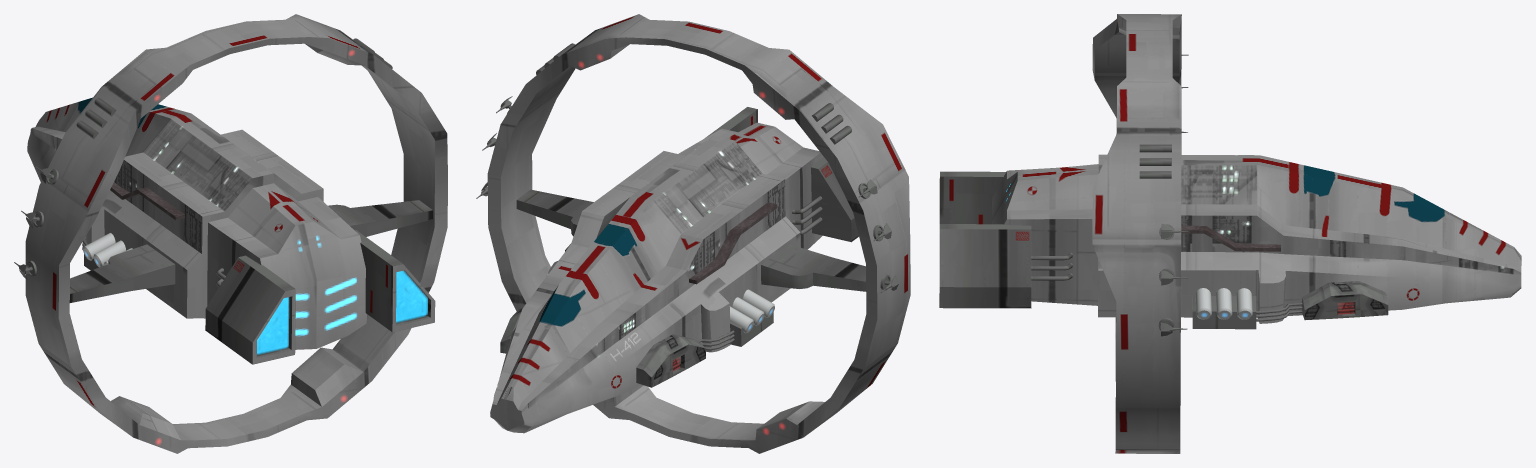
File: npcShip1.glb
3 renders of one model, left to right at view 1: azimuth 30°, elevation 25°; view 2: azimuth 150°, elevation 25°; view 3: azimuth 270°, elevation 25°, orthographic. The views are drawn at different scales.
Visible parts, largest first — view 1: Object_2; view 2: Object_2; view 3: Object_2.
Boxes of the visible parts, left/top/right/bottom form: Object_2: left=14, top=14, right=447, bottom=453; Object_2: left=476, top=14, right=910, bottom=453; Object_2: left=939, top=14, right=1521, bottom=453.
Size of the model in its own units: 11.04 by 10.17 by 13.88.
Materials: 1 (1 with a texture image).
